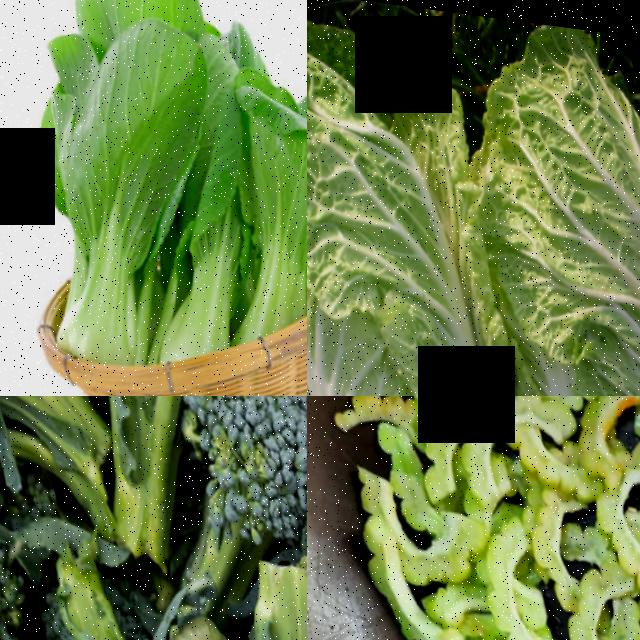bok choy: (0, 15, 188, 395), (106, 154, 261, 368), (198, 52, 307, 320)
broccoli: (0, 396, 228, 567), (137, 396, 307, 570), (127, 521, 307, 640), (0, 550, 208, 640)
cabbage: (307, 48, 596, 396), (384, 9, 640, 396), (307, 52, 405, 396)
